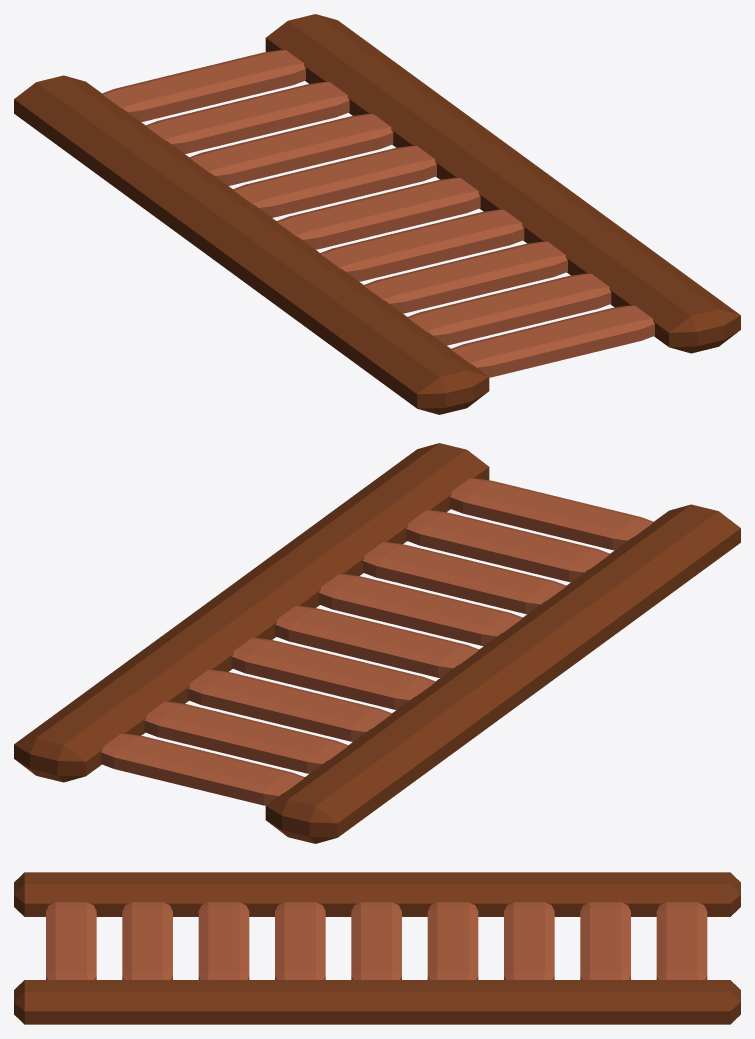
The model's file is мостик.fbx.
3 renders of one model, top to bottom at view 1: azimuth 30°, elevation 25°; view 2: azimuth 150°, elevation 25°; view 3: azimuth 270°, elevation 25°, orthographic. The views are drawn at different scales.
Parts seen in each view (by area): view 1: Cube, Cube.001; view 2: Cube, Cube.001; view 3: Cube, Cube.001.
Boxes of the visible parts, x1=… form: Cube: x1=14, y1=14, x2=740, y2=414; Cube.001: x1=102, y1=50, x2=654, y2=377; Cube: x1=14, y1=443, x2=740, y2=843; Cube.001: x1=101, y1=478, x2=653, y2=805; Cube: x1=14, y1=872, x2=740, y2=1024; Cube.001: x1=46, y1=902, x2=707, y2=979.
Size of the model in its own units: 360 by 40 by 800.
